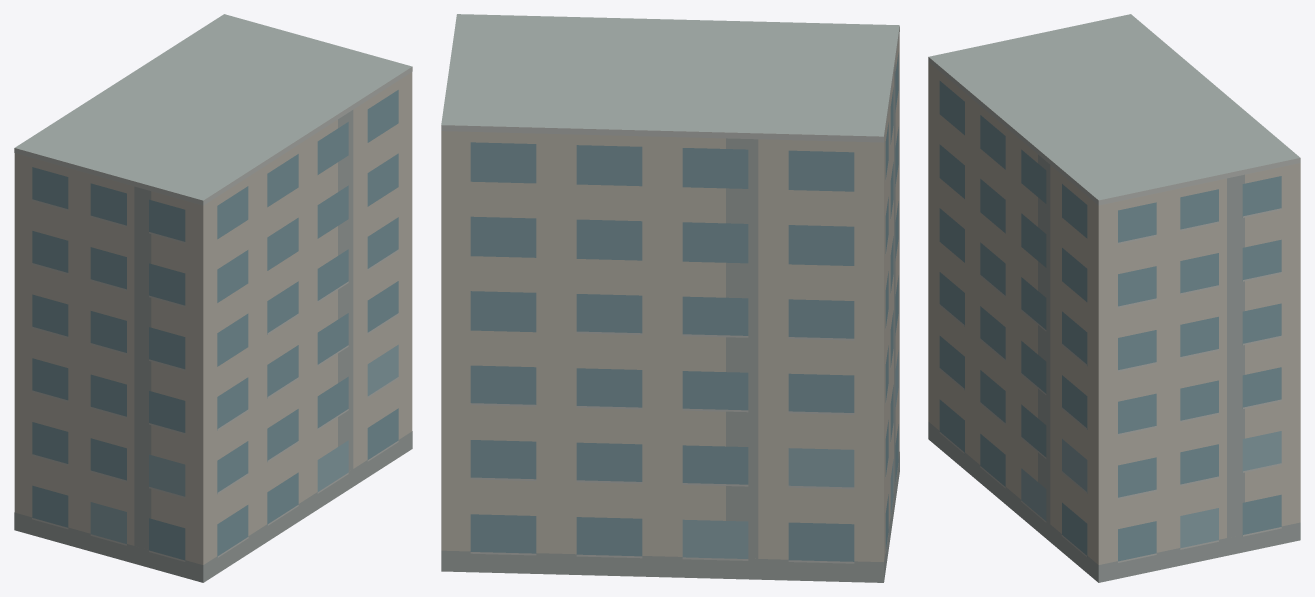
The model's file is survey-upis-32707524.glb.
3 views of the same model, side by side, from view 1: azimuth 30°, elevation 25°; view 2: azimuth 150°, elevation 25°; view 3: azimuth 270°, elevation 25° (orthographic). The views are drawn at different scales.
Parts seen in each view (by area): view 1: survey-upis-32707524.tmp; view 2: survey-upis-32707524.tmp; view 3: survey-upis-32707524.tmp.
Boxes of the visible parts, x1,y1,x2,y2 form: survey-upis-32707524.tmp: (14,14,412,582); survey-upis-32707524.tmp: (441,14,899,582); survey-upis-32707524.tmp: (928,14,1300,582).
Bounding box in the file's own units: 19.14 × 18.3 × 16.15.
